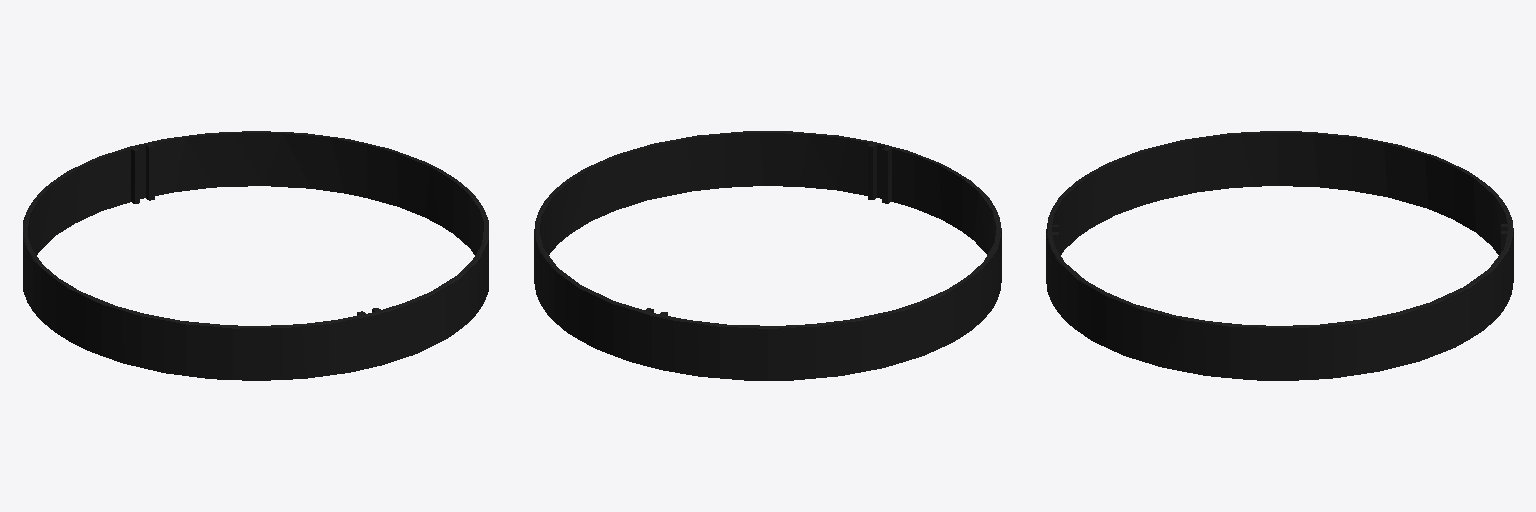
The model's file is right_arm_2_3.obj.
3 renders of one model, left to right at view 1: azimuth 30°, elevation 25°; view 2: azimuth 150°, elevation 25°; view 3: azimuth 270°, elevation 25°, orthographic.
Size of the model in its own units: 0.0887 by 0.0112 by 0.089.